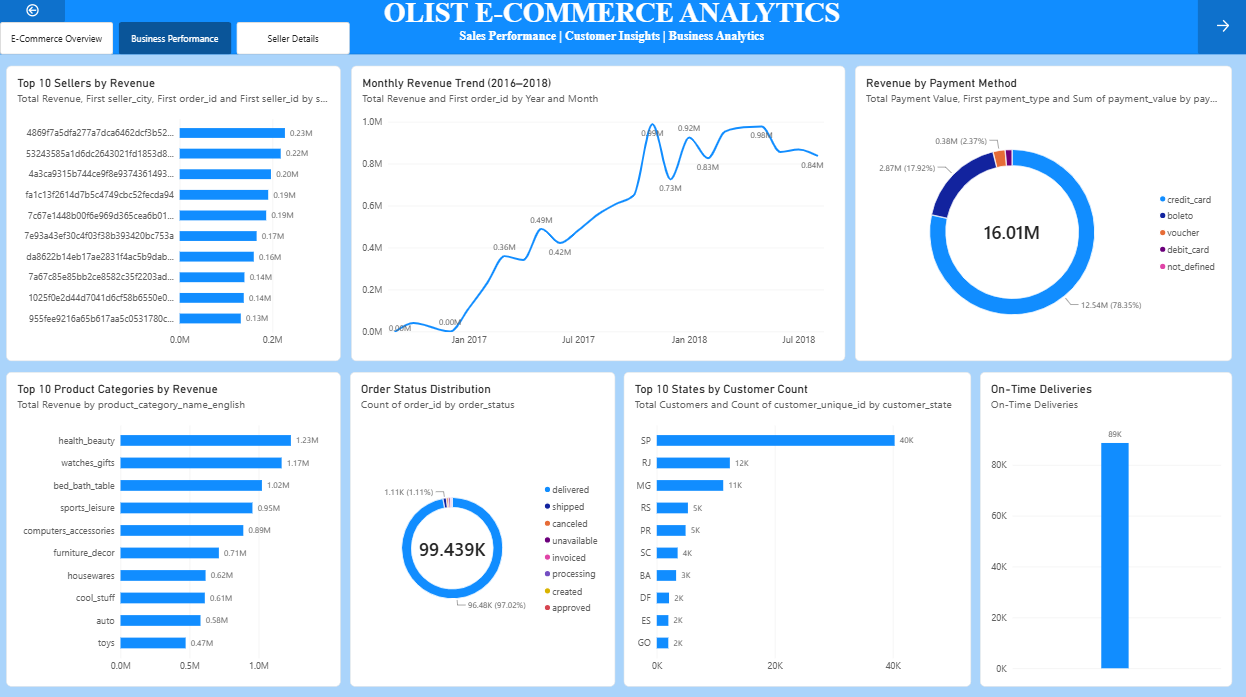

The dashboard page shown, as its layout file describes it:
{"tool":"powerbi","page":{"name":"Business Performance","canvas":[1920,1080],"ordinal":1},"visuals":[{"type":"donutChart","title":"Order Status Distribution","fields":{"Category":["Orders.order_status"],"Y":["Count(Orders.order_id)"]},"box":[538,576,408,484],"z":0},{"type":"clusteredBarChart","title":"Top 10 Product Categories by Revenue","fields":{"Category":["Categories.product_category_name_english"],"Y":["Categories.Total Revenue"]},"box":[10,576,514,484],"z":1000},{"type":"donutChart","title":"Revenue by Payment Method","fields":{"Category":["Payments.payment_type"],"Y":["Categories.Total Payment Value"]},"box":[1316,106,580,454],"z":2000},{"type":"clusteredBarChart","title":"Top 10 States by Customer Count","fields":{"Category":["Customers.customer_state"],"Y":["Categories.Total Customers"]},"box":[960,576,534,484],"z":3000},{"type":"lineChart","title":"Monthly Revenue Trend (2016–2018)","fields":{"Category":["Orders.order_purchase_timestamp.Variation.Date Hierarchy.Year","Orders.order_purchase_timestamp.Variation.Date Hierarchy.Month"],"Y":["Categories.Total Revenue"]},"box":[540,106,760,454],"z":5000},{"type":"clusteredBarChart","title":"Top 10 Sellers by Revenue","fields":{"Category":["Sellers.seller_id"],"Y":["Categories.Total Revenue"]},"box":[10,106,514,454],"z":6000},{"type":"shape","box":[0,0,1920,88.3],"z":9000},{"type":"clusteredColumnChart","title":"On-Time Deliveries","fields":{"Y":["Categories.On-Time Deliveries"]},"box":[1508,576,388,484],"z":10000},{"type":"textbox","box":[568,0,748,88],"z":11000},{"type":"actionButton","box":[0,0,100,40],"z":11004},{"type":"pageNavigator","box":[0,38,538,50],"z":11005},{"type":"actionButton","box":[1842,0,78,88],"z":11006}]}

Visuals, with their boxes in screenshot pixels (x1, y1, x2, y2), scaled from the page's 1920x1080 canvas onto the 1246x697 screenshot:
"Order Status Distribution" donutChart: [left=349, top=372, right=614, bottom=684]
"Top 10 Product Categories by Revenue" clusteredBarChart: [left=6, top=372, right=340, bottom=684]
"Revenue by Payment Method" donutChart: [left=854, top=68, right=1230, bottom=361]
"Top 10 States by Customer Count" clusteredBarChart: [left=623, top=372, right=970, bottom=684]
"Monthly Revenue Trend (2016–2018)" lineChart: [left=350, top=68, right=844, bottom=361]
"Top 10 Sellers by Revenue" clusteredBarChart: [left=6, top=68, right=340, bottom=361]
shape: [left=0, top=0, right=1245, bottom=57]
"On-Time Deliveries" clusteredColumnChart: [left=979, top=372, right=1230, bottom=684]
textbox: [left=369, top=0, right=854, bottom=57]
actionButton: [left=0, top=0, right=65, bottom=26]
pageNavigator: [left=0, top=25, right=349, bottom=57]
actionButton: [left=1195, top=0, right=1245, bottom=57]
